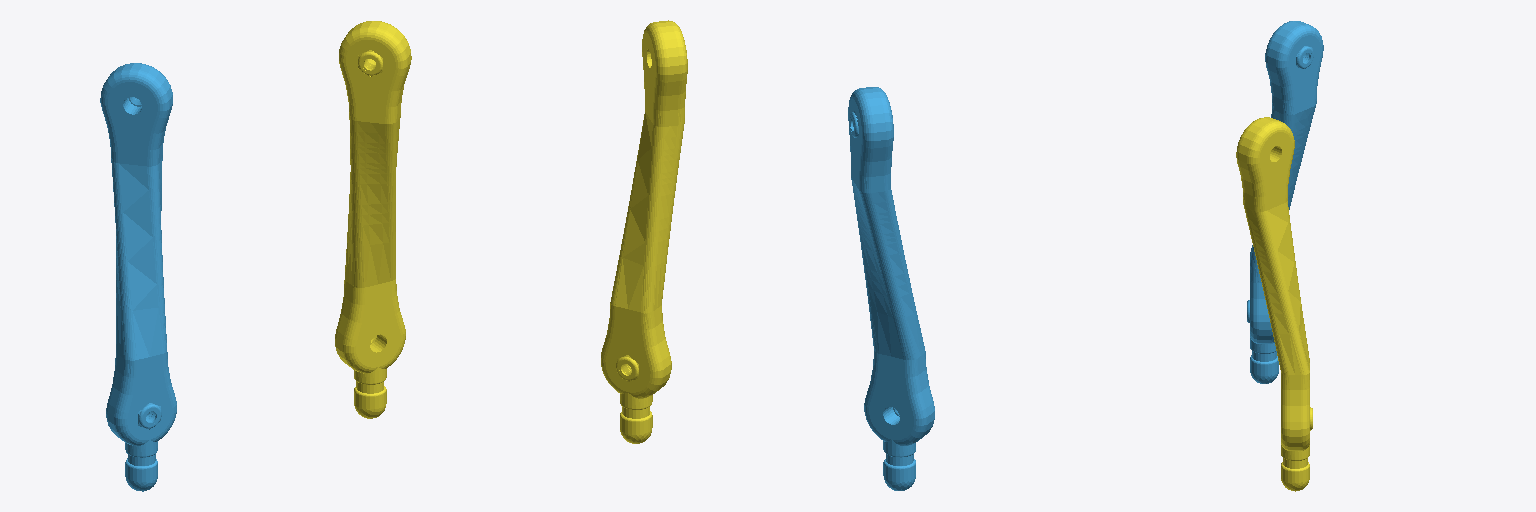
robot.urdf — robot:
<?xml version="1.0" encoding="utf-8"?>
<!-- =================================================================================== -->
<!-- |    This document was autogenerated by xacro from gripper/dualfinger.xacro       | -->
<!-- |    EDITING THIS FILE BY HAND IS NOT RECOMMENDED                                 | -->
<!-- =================================================================================== -->
<robot>
  <link name="dummy">
    <inertial>
      <mass value="0"/>
      <inertia ixx="0.0" ixy="0.0" ixz="0.0" iyy="0.0" iyz="0.0" izz="0.0"/>
    </inertial>
  </link>
  <link name="z_offset_link">
    <inertial>
      <mass value="0"/>
      <inertia ixx="0.0" ixy="0.0" ixz="0.0" iyy="0.0" iyz="0.0" izz="0.0"/>
    </inertial>
  </link>
  <joint name="z_offset" type="fixed">
    <parent link="dummy"/>
    <child link="z_offset_link"/>
    <origin rpy="0 0 0" xyz="0 0 0.0"/>
  </joint>
  <!-->
                module 4

       module1  . origin  module 3

                 module 2
    <-->
  <link name="0-xm430_0">
    <inertial>
      <origin rpy="0 0 0" xyz="-4.0773796e-3 -1.5304911e-2 -1.6871895e-2"/>
      <mass value="0.082"/>
      <inertia ixx="2.3729564e-5" ixy="-1.3079758e-7" ixz="-8.1403365e-8" iyy="1.3112295e-5" iyz="-1.9659314e-6" izz="2.0942871e-5"/>
    </inertial>
    <visual>
      <origin rpy="0.0 0.0 0.0" xyz="0.0 0.0 0.0"/>
      <geometry>
        <mesh filename="./mesh/general/XM430-simplified.stl" scale="0.001 0.001 0.001"/>
      </geometry>
    </visual>
    <collision>
      <origin rpy="0.0 0.0 0.0" xyz="0.0 0.0 0.0"/>
      <geometry>
        <mesh filename="./mesh/general/XM430-simplified.stl" scale="0.001 0.001 0.001"/>
      </geometry>
    </collision>
  </link>
  <link name="0-xm430_1">
    <inertial>
      <origin rpy="0 0 0" xyz="-4.0773796e-3 -1.5304911e-2 -1.6871895e-2"/>
      <mass value="0.082"/>
      <inertia ixx="2.3729564e-5" ixy="-1.3079758e-7" ixz="-8.1403365e-8" iyy="1.3112295e-5" iyz="-1.9659314e-6" izz="2.0942871e-5"/>
    </inertial>
    <visual>
      <origin rpy="0.0 0.0 0.0" xyz="0.0 0.0 0.0"/>
      <geometry>
        <mesh filename="./mesh/general/XM430-simplified.stl" scale="0.001 0.001 0.001"/>
      </geometry>
    </visual>
    <collision>
      <origin rpy="0.0 0.0 0.0" xyz="0.0 0.0 0.0"/>
      <geometry>
        <mesh filename="./mesh/general/XM430-simplified.stl" scale="0.001 0.001 0.001"/>
      </geometry>
    </collision>
  </link>
  <link name="0-xm430_2">
    <inertial>
      <origin rpy="0 0 0" xyz="-4.0773796e-3 -1.5304911e-2 -1.6871895e-2"/>
      <mass value="0.082"/>
      <inertia ixx="2.3729564e-5" ixy="-1.3079758e-7" ixz="-8.1403365e-8" iyy="1.3112295e-5" iyz="-1.9659314e-6" izz="2.0942871e-5"/>
    </inertial>
    <visual>
      <origin rpy="0.0 0.0 0.0" xyz="0.0 0.0 0.0"/>
      <geometry>
        <mesh filename="./mesh/general/XM430-simplified.stl" scale="0.001 0.001 0.001"/>
      </geometry>
    </visual>
    <collision>
      <origin rpy="0.0 0.0 0.0" xyz="0.0 0.0 0.0"/>
      <geometry>
        <mesh filename="./mesh/general/XM430-simplified.stl" scale="0.001 0.001 0.001"/>
      </geometry>
    </collision>
  </link>
  <link name="0-base_motor_frame">
    <inertial>
      <origin rpy="0 0 0" xyz="6.48e-08 -0.0015864406 0.0250889877"/>
      <mass value="0.0768049156"/>
      <inertia ixx="5.65659e-05" ixy="-0.0" ixz="1e-10" iyy="5.30145e-05" iyz="1.1663e-06" izz="3.40217e-05"/>
    </inertial>
    <visual>
      <origin rpy="0 0 0" xyz="0 0 0"/>
      <geometry>
        <mesh filename="./mesh/general/base_motor_frame_simplified.stl" scale="0.001 0.001 0.001"/>
      </geometry>
    </visual>
    <collision>
      <origin rpy="0 0 0" xyz="0 0 0"/>
      <geometry>
        <mesh filename="./mesh/general/base_motor_frame_simplified.stl" scale="0.001 0.001 0.001"/>
      </geometry>
    </collision>
  </link>
  <link name="0-dual_servo_shell">
    <inertial>
      <origin rpy="0 0 0" xyz="0.0005322566 -0.0003161331 0.0506920676"/>
      <mass value="0.0258069457"/>
      <inertia ixx="4.11451e-05" ixy="7.82e-08" ixz="-7.721e-07" iyy="4.42386e-05" iyz="2.774e-07" izz="4.8477e-06"/>
    </inertial>
    <visual>
      <origin rpy="0.0 0.0 0.0" xyz="0.0 0.0 0.0"/>
      <geometry>
        <mesh filename="./mesh/general/dual_servo_shell_simplified.stl" scale="0.001 0.001 0.001"/>
      </geometry>
    </visual>
    <collision>
      <origin rpy="0.0 0.0 0.0" xyz="0.0 0.0 0.0"/>
      <geometry>
        <mesh filename="./mesh/general/dual_servo_shell_simplified.stl" scale="0.001 0.001 0.001"/>
      </geometry>
    </collision>
  </link>
  <link name="0-dual_servo_transmission">
    <inertial>
      <origin rpy="0 0 0" xyz="-1.41e-08 0.0095354556 0.0141401617"/>
      <mass value="0.0576887165"/>
      <inertia ixx="2.78223e-05" ixy="5.7e-09" ixz="-0.0" iyy="1.35978e-05" iyz="4.5419e-06" izz="2.50167e-05"/>
    </inertial>
    <visual>
      <origin rpy="0.0 0.0 0.0" xyz="0.0 0.0 0.0"/>
      <geometry>
        <mesh filename="./mesh/general/dual_servo_transmission_simplified.obj" scale="0.001 0.001 0.001"/>
      </geometry>
    </visual>
    <collision>
      <origin rpy="0.0 0.0 0.0" xyz="0.0 0.0 0.0"/>
      <geometry>
        <mesh filename="./mesh/general/dual_servo_transmission_simplified.obj" scale="0.001 0.001 0.001"/>
      </geometry>
    </collision>
  </link>
  <link name="0-finger1">
    <inertial>
      <origin rpy="0 0 0" xyz="-0.0026422902 -0.067590774 -0.0033849791"/>
      <mass value="0.0275608119"/>
      <inertia ixx="3.84633e-05" ixy="-1.6444e-06" ixz="-2.013e-07" iyy="1.4218e-06" iyz="4.345e-07" izz="3.88256e-05"/>
    </inertial>
    <visual>
      <origin rpy="0.0 0.0 0.0" xyz="0.0 0.0 0.0"/>
      <geometry>
        <mesh filename="./mesh/overconstrained/finger1.obj" scale="0.001 0.001 0.001"/>
      </geometry>
    </visual>
    <collision>
      <origin rpy="0.0 0.0 0.0" xyz="0.0 0.0 0.0"/>
      <geometry>
        <mesh filename="./mesh/overconstrained/finger1.obj" scale="0.001 0.001 0.001"/>
      </geometry>
    </collision>
  </link>
  <link name="0-finger2">
    <inertial>
      <origin rpy="0 0 0" xyz="0.002386501 -0.0533785592 -0.0003073645"/>
      <mass value="0.0217645964"/>
      <inertia ixx="3.57111e-05" ixy="1.7199e-06" ixz="1.471e-07" iyy="1.2113e-06" iyz="-4.1867e-06" izz="3.54138e-05"/>
    </inertial>
    <visual>
      <origin rpy="0.0 0.0 0.0" xyz="0.0 0.0 0.0"/>
      <geometry>
        <mesh filename="./mesh/overconstrained/finger2.obj" scale="0.001 0.001 0.001"/>
      </geometry>
    </visual>
    <collision>
      <origin rpy="0.0 0.0 0.0" xyz="0.0 0.0 0.0"/>
      <geometry>
        <mesh filename="./mesh/overconstrained/finger2.obj" scale="0.001 0.001 0.001"/>
      </geometry>
    </collision>
  </link>
  <!--Create joints to connect the parts-->
  <!--Fix the module to module parent link-->
  <joint name="0-module_to_parent" type="fixed">
    <parent link="z_offset_link"/>
    <child link="0-base_motor_frame"/>
    <origin rpy="3.14159265 0 1.570796325" xyz="-0.1 0 0"/>
  </joint>
  <!--Fix the parts which are not supposed to move-->
  <joint name="0-fix_xm430_0" type="fixed">
    <parent link="0-base_motor_frame"/>
    <child link="0-xm430_0"/>
    <origin rpy="0 0 0" xyz="0 0 0.054"/>
  </joint>
  <joint name="0-fix_xm430_1" type="fixed">
    <parent link="0-dual_servo_shell"/>
    <child link="0-xm430_1"/>
    <origin rpy="-1.570796325 0 0" xyz="0 0.019 0.0334"/>
  </joint>
  <joint name="0-fix_xm430_2" type="fixed">
    <parent link="0-xm430_1"/>
    <child link="0-xm430_2"/>
    <origin rpy="0 0 0" xyz="0 -0.0465 0"/>
  </joint>
  <joint name="0-fix_transmission" type="fixed">
    <parent link="0-xm430_2"/>
    <child link="0-dual_servo_transmission"/>
    <origin rpy="0 0 0" xyz="0 0 0"/>
  </joint>
  <!--DoFs, joints corresponding to the degrees of actuation-->
  <joint name="0-dof1" type="revolute">
    <parent link="0-xm430_0"/>
    <child link="0-dual_servo_shell"/>
    <axis xyz="0 0 -1"/>
    <limit effort="1000" lower="-3.14159265" upper="3.14159265" velocity="1000"/>
    <origin rpy="0 0 0" xyz="0 0 0"/>
  </joint>
  <joint name="0-dof2" type="revolute">
    <parent link="0-xm430_2"/>
    <child link="0-finger1"/>
    <axis xyz="0 0 -1"/>
    <limit effort="1000" lower="-1.570796325" upper="1.570796325" velocity="1000"/>
    <origin rpy="0 0 0" xyz="0 0 0.0368"/>
  </joint>
  <joint name="0-dof3" type="revolute">
    <parent link="0-finger1"/>
    <child link="0-finger2"/>
    <axis xyz="0 0 1"/>
    <limit effort="1000" lower="-2.3561944875" upper="2.3561944875" velocity="1000"/>
    <origin rpy="0 0.7853981625 0" xyz="0.0014142 -0.1 0.0014142"/>
  </joint>
  <!--frames that may be helpful-->
  <link name="0-fingertip_frame">
    <geometry>
      <origin rpy="0 0 0" xyz="0 0 0"/>
    </geometry>
  </link>
  <joint name="0-fingertip_frame_fix" type="fixed">
    <parent link="0-finger2"/>
    <child link="0-fingertip_frame"/>
    <origin rpy="0 0 0" xyz="0.004243 -0.127 -0.005243"/>
  </joint>
  <link name="0-knee_frame">
    <geometry>
      <origin rpy="0 0 0" xyz="0 0 0"/>
    </geometry>
  </link>
  <joint name="0-knee_frame_fix" type="fixed">
    <parent link="0-finger2"/>
    <child link="0-knee_frame"/>
    <origin rpy="0 0 0" xyz="0 0 0"/>
  </joint>
  <link name="1-xm430_0">
    <inertial>
      <origin rpy="0 0 0" xyz="-4.0773796e-3 -1.5304911e-2 -1.6871895e-2"/>
      <mass value="0.082"/>
      <inertia ixx="2.3729564e-5" ixy="-1.3079758e-7" ixz="-8.1403365e-8" iyy="1.3112295e-5" iyz="-1.9659314e-6" izz="2.0942871e-5"/>
    </inertial>
    <visual>
      <origin rpy="0.0 0.0 0.0" xyz="0.0 0.0 0.0"/>
      <geometry>
        <mesh filename="./mesh/general/XM430-simplified.stl" scale="0.001 0.001 0.001"/>
      </geometry>
    </visual>
    <collision>
      <origin rpy="0.0 0.0 0.0" xyz="0.0 0.0 0.0"/>
      <geometry>
        <mesh filename="./mesh/general/XM430-simplified.stl" scale="0.001 0.001 0.001"/>
      </geometry>
    </collision>
  </link>
  <link name="1-xm430_1">
    <inertial>
      <origin rpy="0 0 0" xyz="-4.0773796e-3 -1.5304911e-2 -1.6871895e-2"/>
      <mass value="0.082"/>
      <inertia ixx="2.3729564e-5" ixy="-1.3079758e-7" ixz="-8.1403365e-8" iyy="1.3112295e-5" iyz="-1.9659314e-6" izz="2.0942871e-5"/>
    </inertial>
    <visual>
      <origin rpy="0.0 0.0 0.0" xyz="0.0 0.0 0.0"/>
      <geometry>
        <mesh filename="./mesh/general/XM430-simplified.stl" scale="0.001 0.001 0.001"/>
      </geometry>
    </visual>
    <collision>
      <origin rpy="0.0 0.0 0.0" xyz="0.0 0.0 0.0"/>
      <geometry>
        <mesh filename="./mesh/general/XM430-simplified.stl" scale="0.001 0.001 0.001"/>
      </geometry>
    </collision>
  </link>
  <link name="1-xm430_2">
    <inertial>
      <origin rpy="0 0 0" xyz="-4.0773796e-3 -1.5304911e-2 -1.6871895e-2"/>
      <mass value="0.082"/>
      <inertia ixx="2.3729564e-5" ixy="-1.3079758e-7" ixz="-8.1403365e-8" iyy="1.3112295e-5" iyz="-1.9659314e-6" izz="2.0942871e-5"/>
    </inertial>
    <visual>
      <origin rpy="0.0 0.0 0.0" xyz="0.0 0.0 0.0"/>
      <geometry>
        <mesh filename="./mesh/general/XM430-simplified.stl" scale="0.001 0.001 0.001"/>
      </geometry>
    </visual>
    <collision>
      <origin rpy="0.0 0.0 0.0" xyz="0.0 0.0 0.0"/>
      <geometry>
        <mesh filename="./mesh/general/XM430-simplified.stl" scale="0.001 0.001 0.001"/>
      </geometry>
    </collision>
  </link>
  <link name="1-base_motor_frame">
    <inertial>
      <origin rpy="0 0 0" xyz="6.48e-08 -0.0015864406 0.0250889877"/>
      <mass value="0.0768049156"/>
      <inertia ixx="5.65659e-05" ixy="-0.0" ixz="1e-10" iyy="5.30145e-05" iyz="1.1663e-06" izz="3.40217e-05"/>
    </inertial>
    <visual>
      <origin rpy="0 0 0" xyz="0 0 0"/>
      <geometry>
        <mesh filename="./mesh/general/base_motor_frame_simplified.stl" scale="0.001 0.001 0.001"/>
      </geometry>
    </visual>
    <collision>
      <origin rpy="0 0 0" xyz="0 0 0"/>
      <geometry>
        <mesh filename="./mesh/general/base_motor_frame_simplified.stl" scale="0.001 0.001 0.001"/>
      </geometry>
    </collision>
  </link>
  <link name="1-dual_servo_shell">
    <inertial>
      <origin rpy="0 0 0" xyz="0.0005322566 -0.0003161331 0.0506920676"/>
      <mass value="0.0258069457"/>
      <inertia ixx="4.11451e-05" ixy="7.82e-08" ixz="-7.721e-07" iyy="4.42386e-05" iyz="2.774e-07" izz="4.8477e-06"/>
    </inertial>
    <visual>
      <origin rpy="0.0 0.0 0.0" xyz="0.0 0.0 0.0"/>
      <geometry>
        <mesh filename="./mesh/general/dual_servo_shell_simplified.stl" scale="0.001 0.001 0.001"/>
      </geometry>
    </visual>
    <collision>
      <origin rpy="0.0 0.0 0.0" xyz="0.0 0.0 0.0"/>
      <geometry>
        <mesh filename="./mesh/general/dual_servo_shell_simplified.stl" scale="0.001 0.001 0.001"/>
      </geometry>
    </collision>
  </link>
  <link name="1-dual_servo_transmission">
    <inertial>
      <origin rpy="0 0 0" xyz="-1.41e-08 0.0095354556 0.0141401617"/>
      <mass value="0.0576887165"/>
      <inertia ixx="2.78223e-05" ixy="5.7e-09" ixz="-0.0" iyy="1.35978e-05" iyz="4.5419e-06" izz="2.50167e-05"/>
    </inertial>
    <visual>
      <origin rpy="0.0 0.0 0.0" xyz="0.0 0.0 0.0"/>
      <geometry>
        <mesh filename="./mesh/general/dual_servo_transmission_simplified.obj" scale="0.001 0.001 0.001"/>
      </geometry>
    </visual>
    <collision>
      <origin rpy="0.0 0.0 0.0" xyz="0.0 0.0 0.0"/>
      <geometry>
        <mesh filename="./mesh/general/dual_servo_transmission_simplified.obj" scale="0.001 0.001 0.001"/>
      </geometry>
    </collision>
  </link>
  <link name="1-finger1">
    <inertial>
      <origin rpy="0 0 0" xyz="-0.0026422902 -0.067590774 -0.0033849791"/>
      <mass value="0.0275608119"/>
      <inertia ixx="3.84633e-05" ixy="-1.6444e-06" ixz="-2.013e-07" iyy="1.4218e-06" iyz="4.345e-07" izz="3.88256e-05"/>
    </inertial>
    <visual>
      <origin rpy="0.0 0.0 0.0" xyz="0.0 0.0 0.0"/>
      <geometry>
        <mesh filename="./mesh/overconstrained/finger1.obj" scale="0.001 0.001 0.001"/>
      </geometry>
    </visual>
    <collision>
      <origin rpy="0.0 0.0 0.0" xyz="0.0 0.0 0.0"/>
      <geometry>
        <mesh filename="./mesh/overconstrained/finger1.obj" scale="0.001 0.001 0.001"/>
      </geometry>
    </collision>
  </link>
  <link name="1-finger2">
    <inertial>
      <origin rpy="0 0 0" xyz="0.002386501 -0.0533785592 -0.0003073645"/>
      <mass value="0.0217645964"/>
      <inertia ixx="3.57111e-05" ixy="1.7199e-06" ixz="1.471e-07" iyy="1.2113e-06" iyz="-4.1867e-06" izz="3.54138e-05"/>
    </inertial>
    <visual>
      <origin rpy="0.0 0.0 0.0" xyz="0.0 0.0 0.0"/>
      <geometry>
        <mesh filename="./mesh/overconstrained/finger2.obj" scale="0.001 0.001 0.001"/>
      </geometry>
    </visual>
    <collision>
      <origin rpy="0.0 0.0 0.0" xyz="0.0 0.0 0.0"/>
      <geometry>
        <mesh filename="./mesh/overconstrained/finger2.obj" scale="0.001 0.001 0.001"/>
      </geometry>
    </collision>
  </link>
  <!--Create joints to connect the parts-->
  <!--Fix the module to module parent link-->
  <joint name="1-module_to_parent" type="fixed">
    <parent link="z_offset_link"/>
    <child link="1-base_motor_frame"/>
    <origin rpy="3.14159265 0 -1.570796325" xyz="0.1 0 0"/>
  </joint>
  <!--Fix the parts which are not supposed to move-->
  <joint name="1-fix_xm430_0" type="fixed">
    <parent link="1-base_motor_frame"/>
    <child link="1-xm430_0"/>
    <origin rpy="0 0 0" xyz="0 0 0.054"/>
  </joint>
  <joint name="1-fix_xm430_1" type="fixed">
    <parent link="1-dual_servo_shell"/>
    <child link="1-xm430_1"/>
    <origin rpy="-1.570796325 0 0" xyz="0 0.019 0.0334"/>
  </joint>
  <joint name="1-fix_xm430_2" type="fixed">
    <parent link="1-xm430_1"/>
    <child link="1-xm430_2"/>
    <origin rpy="0 0 0" xyz="0 -0.0465 0"/>
  </joint>
  <joint name="1-fix_transmission" type="fixed">
    <parent link="1-xm430_2"/>
    <child link="1-dual_servo_transmission"/>
    <origin rpy="0 0 0" xyz="0 0 0"/>
  </joint>
  <!--DoFs, joints corresponding to the degrees of actuation-->
  <joint name="1-dof1" type="revolute">
    <parent link="1-xm430_0"/>
    <child link="1-dual_servo_shell"/>
    <axis xyz="0 0 -1"/>
    <limit effort="1000" lower="-3.14159265" upper="3.14159265" velocity="1000"/>
    <origin rpy="0 0 0" xyz="0 0 0"/>
  </joint>
  <joint name="1-dof2" type="revolute">
    <parent link="1-xm430_2"/>
    <child link="1-finger1"/>
    <axis xyz="0 0 -1"/>
    <limit effort="1000" lower="-1.570796325" upper="1.570796325" velocity="1000"/>
    <origin rpy="0 0 0" xyz="0 0 0.0368"/>
  </joint>
  <joint name="1-dof3" type="revolute">
    <parent link="1-finger1"/>
    <child link="1-finger2"/>
    <axis xyz="0 0 1"/>
    <limit effort="1000" lower="-2.3561944875" upper="2.3561944875" velocity="1000"/>
    <origin rpy="0 0.7853981625 0" xyz="0.0014142 -0.1 0.0014142"/>
  </joint>
  <!--frames that may be helpful-->
  <link name="1-fingertip_frame">
    <geometry>
      <origin rpy="0 0 0" xyz="0 0 0"/>
    </geometry>
  </link>
  <joint name="1-fingertip_frame_fix" type="fixed">
    <parent link="1-finger2"/>
    <child link="1-fingertip_frame"/>
    <origin rpy="0 0 0" xyz="0.004243 -0.127 -0.005243"/>
  </joint>
  <link name="1-knee_frame">
    <geometry>
      <origin rpy="0 0 0" xyz="0 0 0"/>
    </geometry>
  </link>
  <joint name="1-knee_frame_fix" type="fixed">
    <parent link="1-finger2"/>
    <child link="1-knee_frame"/>
    <origin rpy="0 0 0" xyz="0 0 0"/>
  </joint>
</robot>

--- What the picture shows (computed from the rendered views, not written in the file) ---
Views: 3 orthographic renders of the robot side by side, from view 1: azimuth 30°, elevation 25°; view 2: azimuth 150°, elevation 25°; view 3: azimuth 270°, elevation 25°.
Robot: robot — 22 links, 21 joints (6 revolute, 15 fixed); root link dummy; default pose: every joint at zero.
Links seen in each view (by area): view 1: 0-finger2, 1-finger2; view 2: 1-finger2, 0-finger2; view 3: 1-finger2, 0-finger2.
Boxes of the visible links, left/top/right/bottom form: 0-finger2: left=100, top=63, right=176, bottom=491; 1-finger2: left=335, top=21, right=411, bottom=418; 1-finger2: left=601, top=20, right=687, bottom=443; 0-finger2: left=848, top=87, right=934, bottom=490; 1-finger2: left=1236, top=117, right=1312, bottom=491; 0-finger2: left=1247, top=21, right=1323, bottom=383.
Size in the robot's own frame: 0.1089 by 0.03 by 0.1379 metres.
2 mesh visuals loaded from 6 distinct referenced files (1 OBJ); not drawn: 14 (reference not matched to a file when rendering).